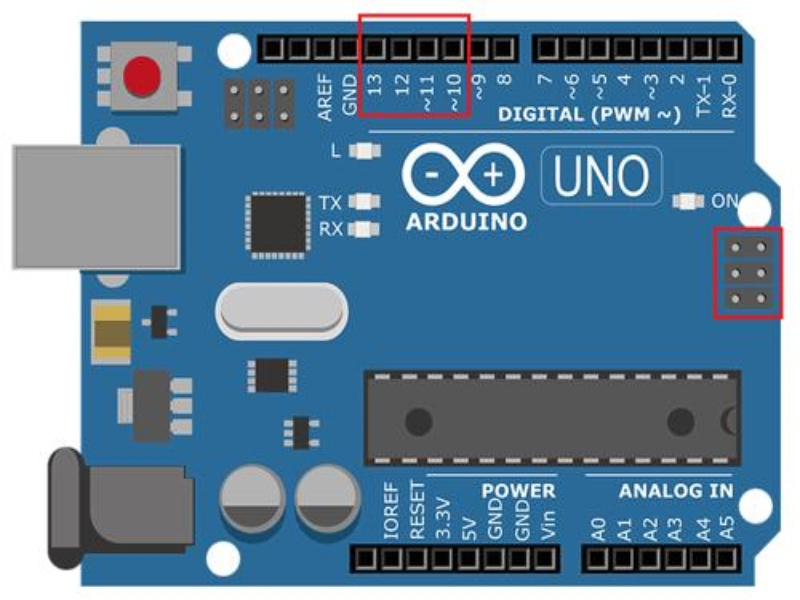uno: (5, 3, 790, 595)
